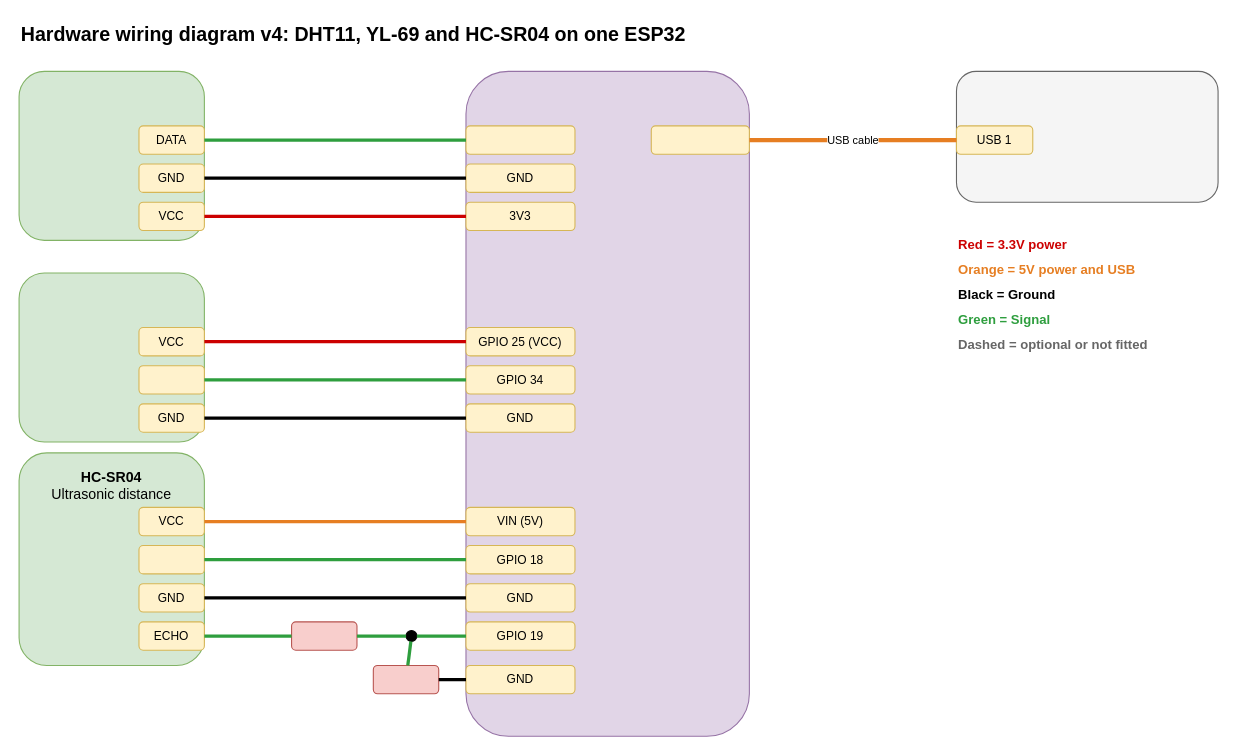
The diagram is 1237 pixels wide and 755 high, and some of its shapes have lost their labels. The shapes that lost their labels are listed below. From the top down, each one's box as (x1, y1, x2, y2) in pixels, then its label:
(18, 70, 204, 240): DHT11 Temp + humidity
(465, 125, 575, 154): GPIO 4
(650, 125, 749, 154): USB in
(955, 70, 1218, 202): Portable power bank 5V USB
(18, 272, 204, 442): YL-69 soil sensor Resistive, analog
(138, 365, 204, 394): A0
(465, 70, 749, 736): ESP32 NodeMCU Reads sensors, publishes MQTT
(138, 544, 204, 574): TRIG
(290, 621, 357, 650): 1k
(372, 664, 439, 694): 2k
